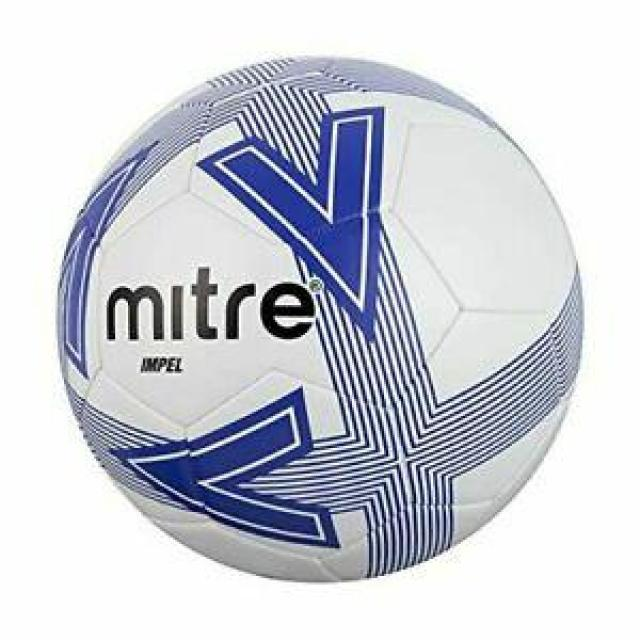ball: (48, 48, 590, 590)
